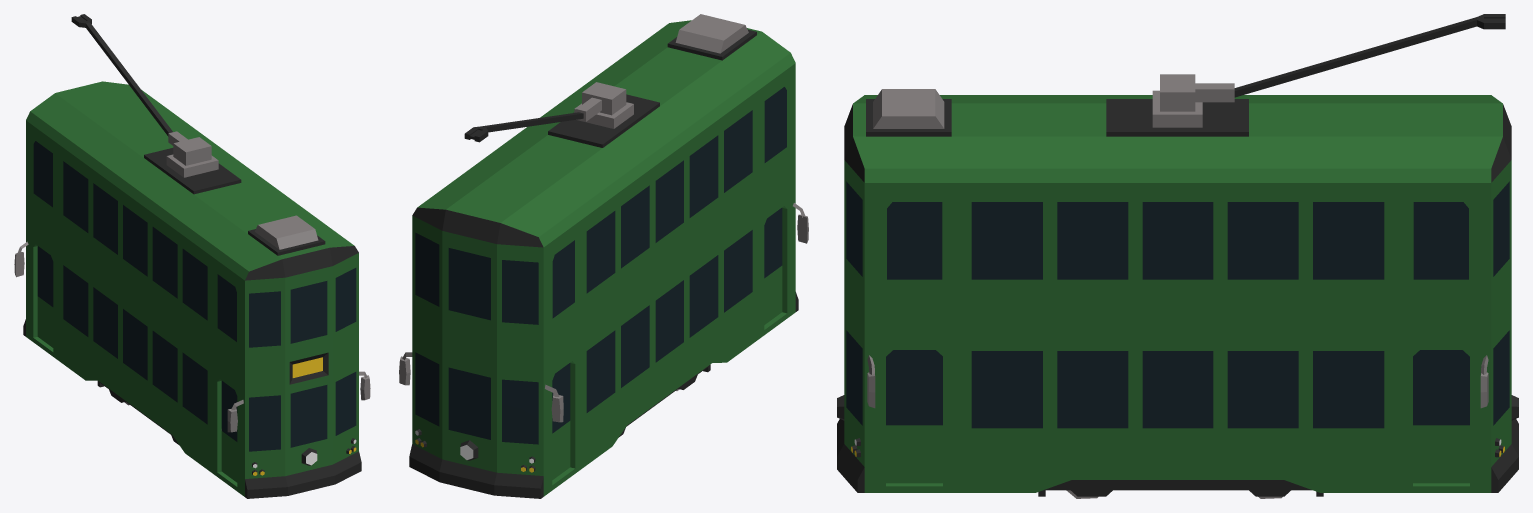
The model's file is tram-china.glb.
The picture shows the model from 3 angles, left to right: view 1: azimuth 30°, elevation 25°; view 2: azimuth 150°, elevation 25°; view 3: azimuth 270°, elevation 25°; orthographic projection. The views are drawn at different scales.
Visible parts, largest first — view 1: tram-china-base; view 2: tram-china-base; view 3: tram-china-base.
Part boxes in pixels (bbox=[...]): tram-china-base: bbox=[14, 14, 370, 498]; tram-china-base: bbox=[399, 14, 808, 498]; tram-china-base: bbox=[837, 14, 1518, 496].
Bounding box in the file's own units: 3.28 × 7.11 × 9.56.
1 material, 1 textured.
